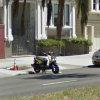Motorcycle: (28, 46, 65, 82)
